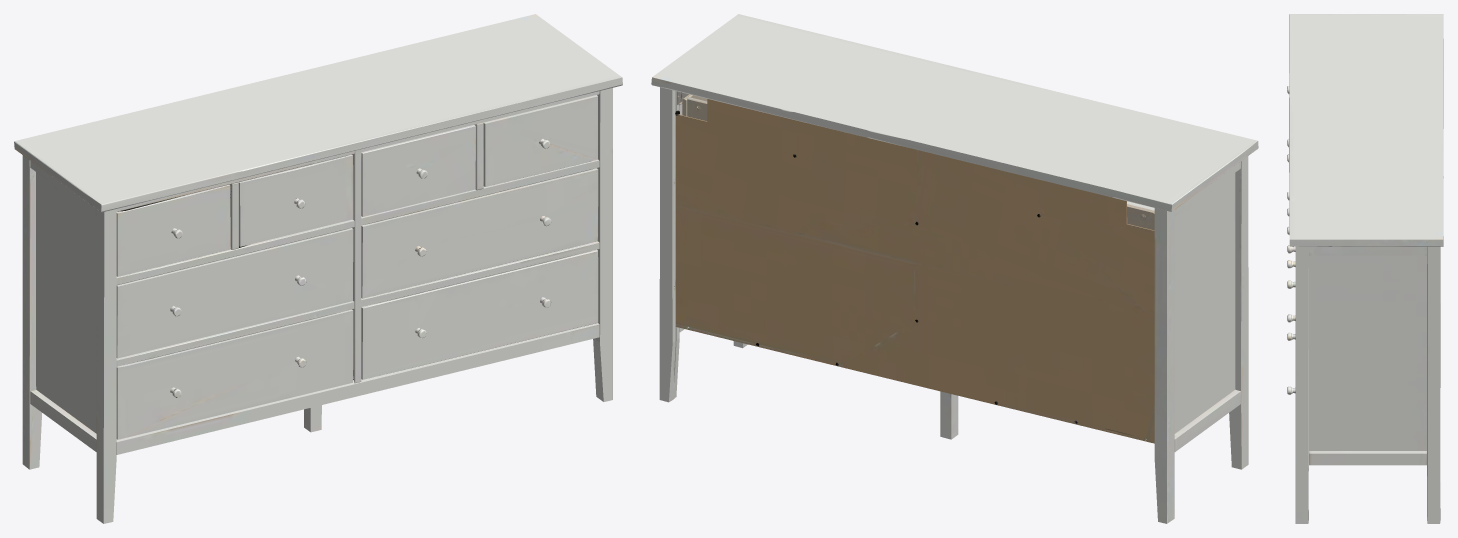
The picture shows the model from 3 angles, left to right: view 1: azimuth 30°, elevation 25°; view 2: azimuth 150°, elevation 25°; view 3: azimuth 270°, elevation 25°; orthographic projection. The views are drawn at different scales.
Parts seen in each view (by area): view 1: 00590395; view 2: 00590395; view 3: 00590395.
Part boxes in pixels (left/top/right/bottom): 00590395: left=14, top=14, right=622, bottom=523; 00590395: left=651, top=14, right=1258, bottom=523; 00590395: left=1287, top=14, right=1443, bottom=523.
Size of the model in its own units: 1.68 by 0.9966 by 0.4901.
1 material, 1 textured.
